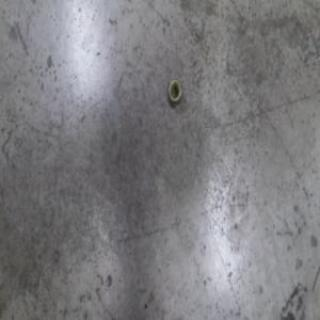Nuttrack_idkeyframe: (166, 76, 182, 109)
